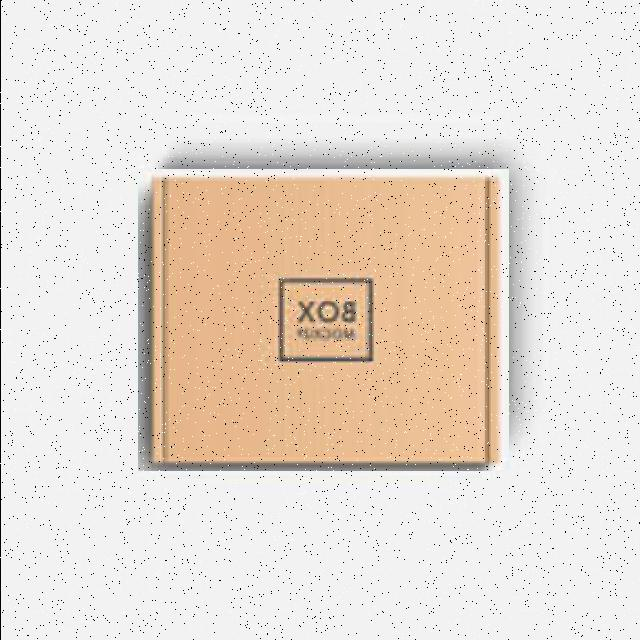normal: (137, 169, 508, 471)
